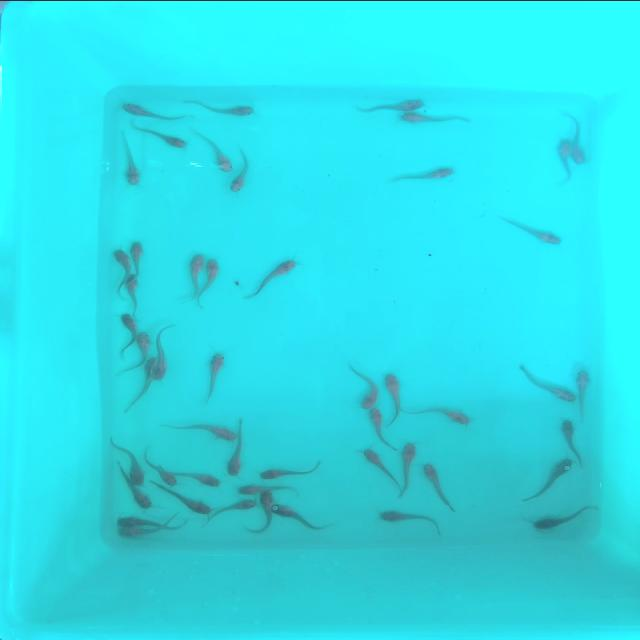lele: (518, 456, 576, 506), (240, 257, 296, 305), (513, 361, 571, 403), (355, 447, 403, 493), (187, 127, 233, 174), (420, 458, 458, 514), (536, 504, 598, 536), (496, 214, 558, 246), (270, 502, 328, 536), (378, 508, 442, 538), (198, 498, 255, 530), (128, 125, 186, 154), (125, 359, 155, 413), (107, 437, 143, 482), (558, 416, 588, 468), (167, 418, 233, 440), (146, 446, 178, 491), (364, 410, 398, 452), (185, 97, 255, 117), (157, 488, 210, 514), (152, 322, 176, 379), (224, 420, 247, 478), (200, 350, 224, 404), (264, 461, 321, 483), (230, 143, 253, 195), (383, 372, 404, 428), (119, 138, 143, 186), (407, 406, 469, 424), (121, 102, 175, 122), (115, 483, 153, 511), (353, 368, 378, 408), (111, 526, 181, 540), (394, 166, 454, 182), (174, 468, 224, 487), (574, 372, 592, 424), (401, 444, 418, 498), (396, 112, 470, 124), (354, 98, 422, 111), (571, 110, 587, 164), (113, 247, 131, 294), (554, 141, 574, 181), (206, 254, 222, 302), (120, 311, 136, 358), (255, 492, 272, 536), (187, 252, 204, 294), (127, 274, 145, 310), (114, 515, 174, 525), (236, 482, 286, 493), (134, 329, 150, 362), (131, 238, 143, 274)
